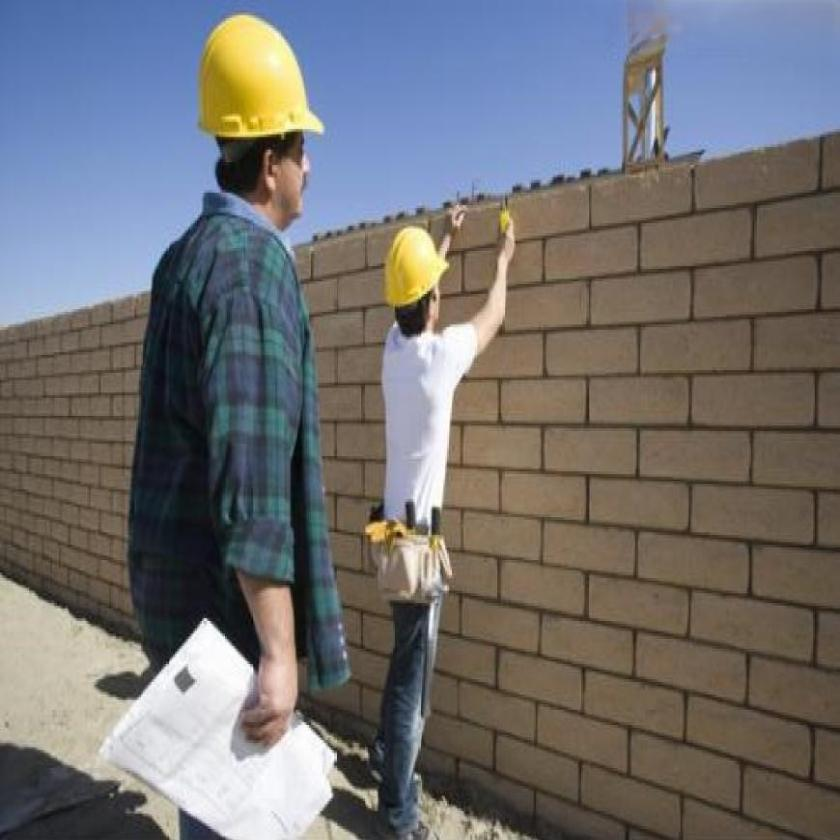Con_casco: (181, 0, 335, 266), (378, 175, 456, 344)
